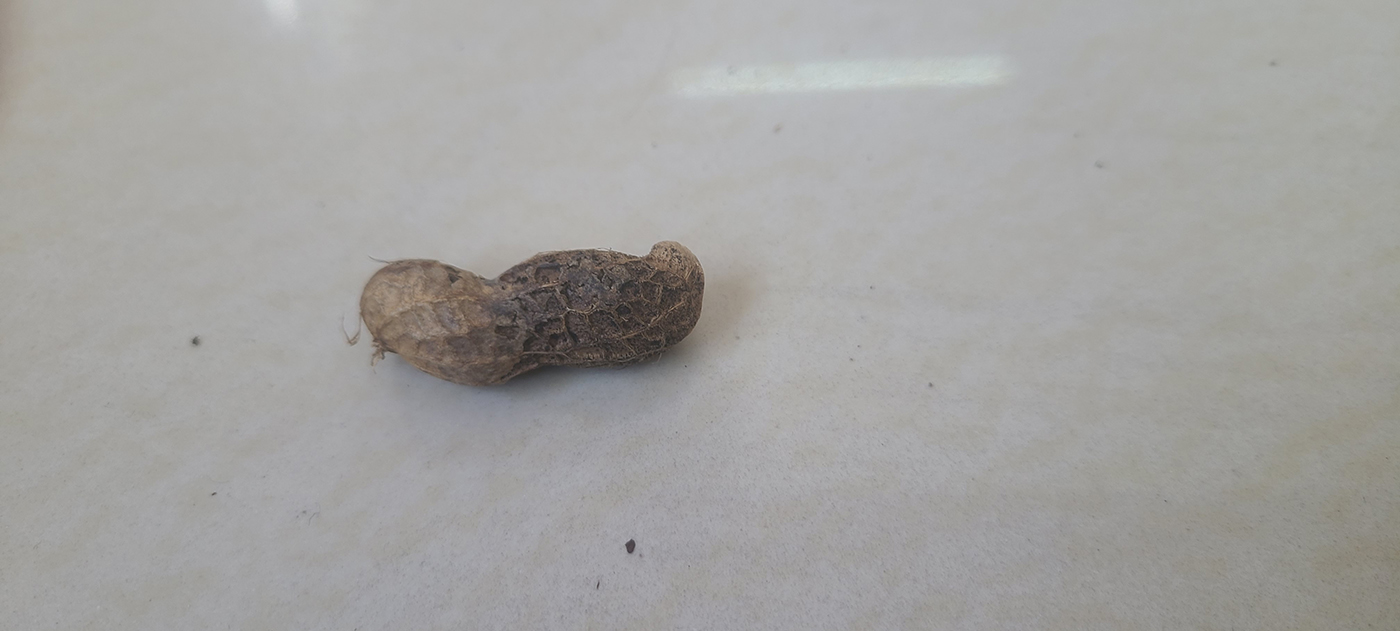l: (358, 237, 706, 383)
